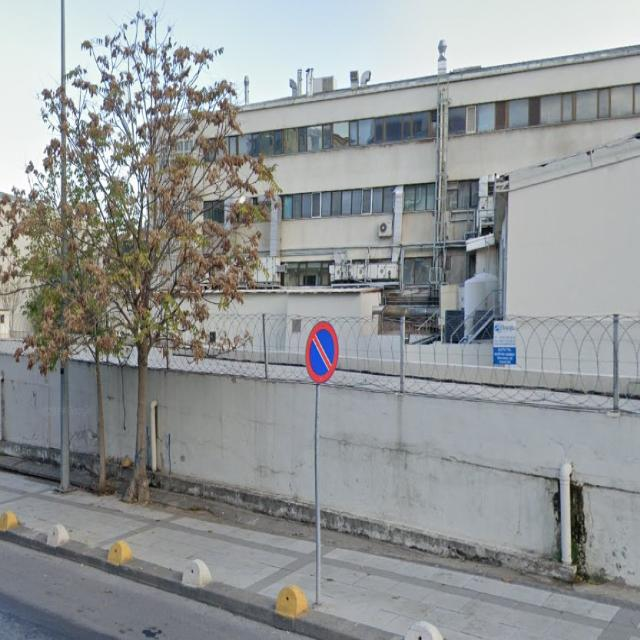parkyasak: (306, 321, 339, 383)
